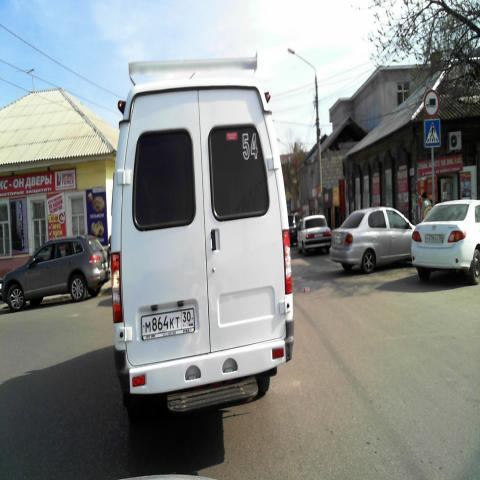3_4_1: (422, 89, 437, 117)
